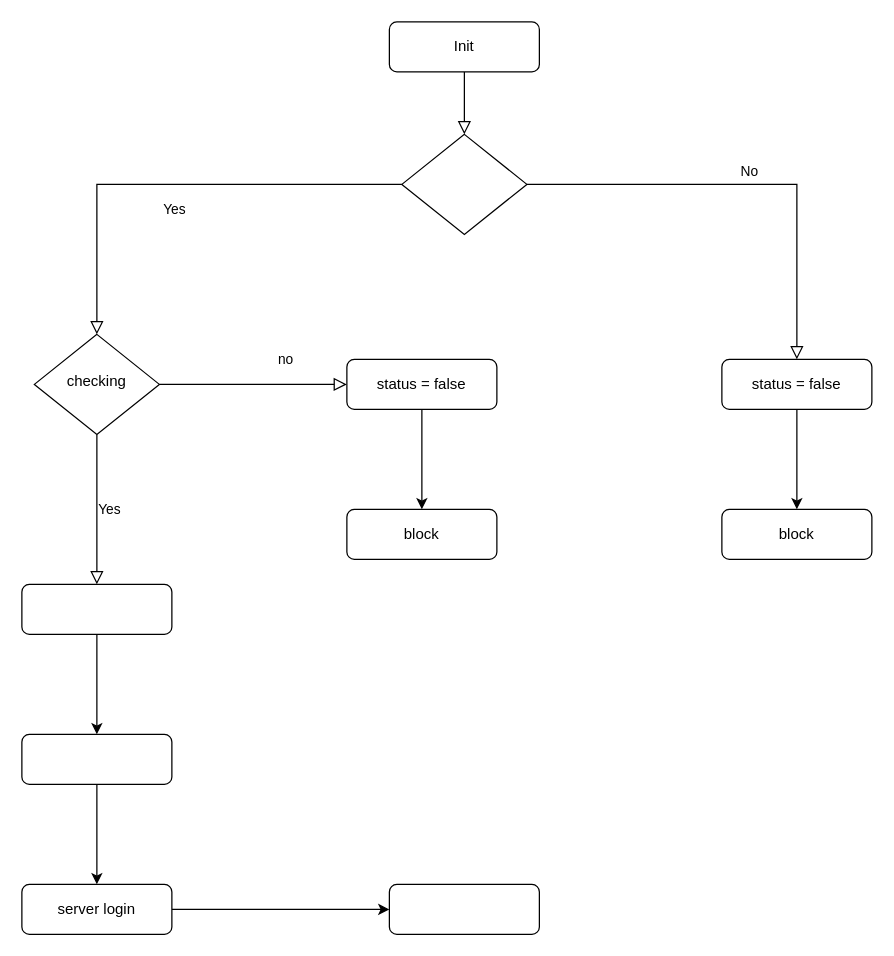
This 894x956 diagram has some shape labels left out. The shapes that lost their labels are listed below. From the top down, each one's centre as x and y in pixels, then its label:
At (x=464, y=183): "validation".
At (x=96, y=608): "status = true".
At (x=96, y=758): "generating token".
At (x=463, y=908): "database acc ess".
